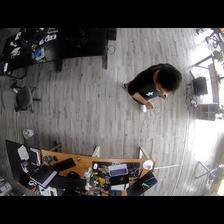normal: (122, 63, 183, 112)
